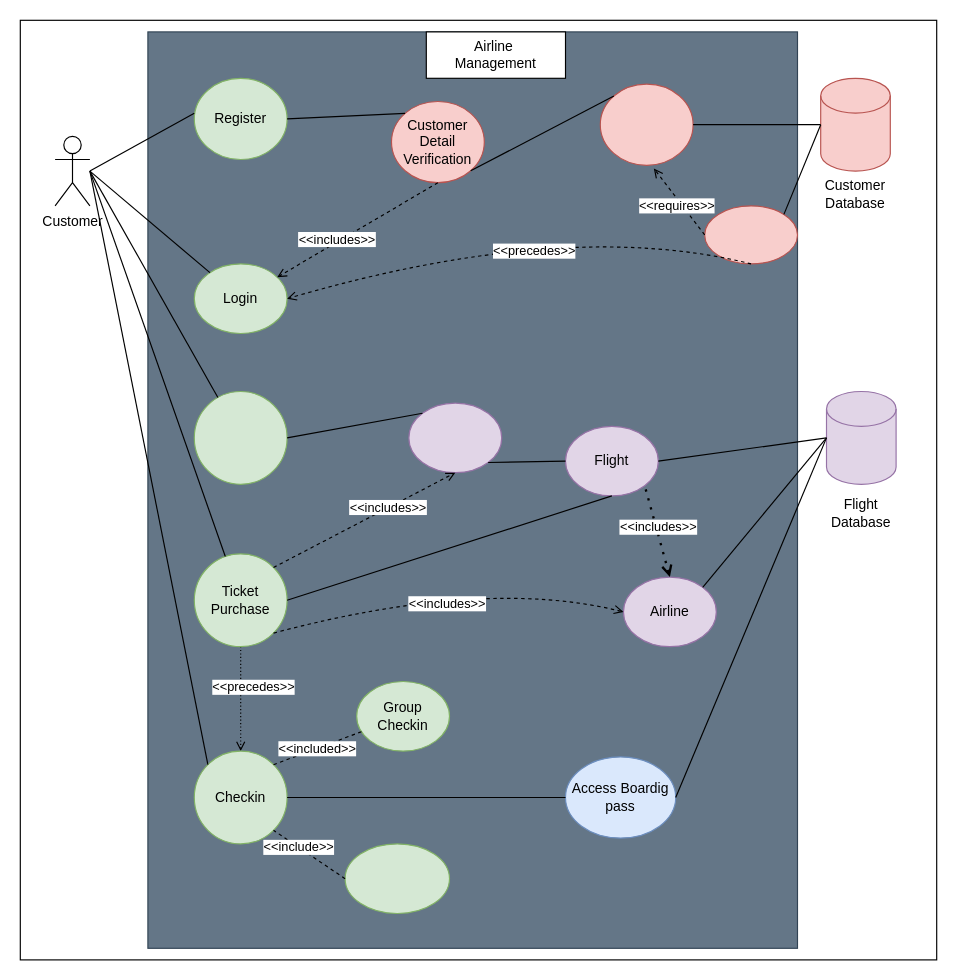
The diagram is 957 pixels wide and 980 high, and some of its shapes have lost their labels. The shapes that lost their labels are listed below. From the top down, each one's box as (x1, y1, x2, y2) in pixels, then its label:
(599, 83, 693, 165): Update Customer Database
(704, 205, 798, 264): Uniqueness verification
(193, 390, 287, 484): Flight Search
(408, 402, 502, 473): Destination
(344, 843, 449, 913): Drop Luggage
